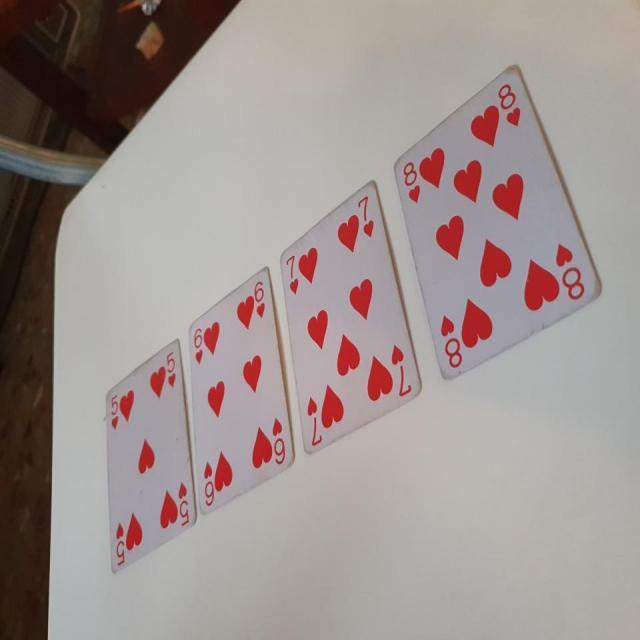5 of hearts: (99, 338, 206, 572)
6 of hearts: (181, 260, 296, 522)
7 of hearts: (278, 175, 425, 464)
8 of hearts: (390, 63, 606, 383)
